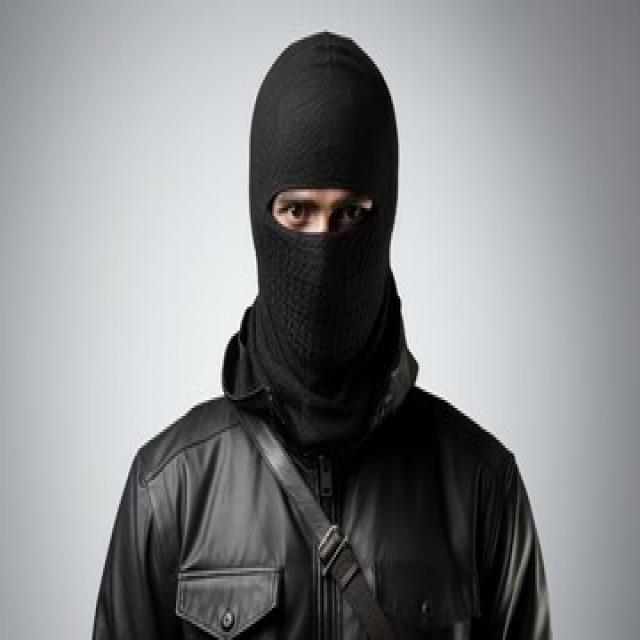person-with-mask: (94, 14, 553, 640)
